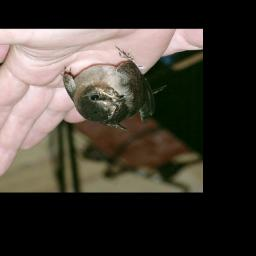Swallow: (60, 43, 170, 132)
